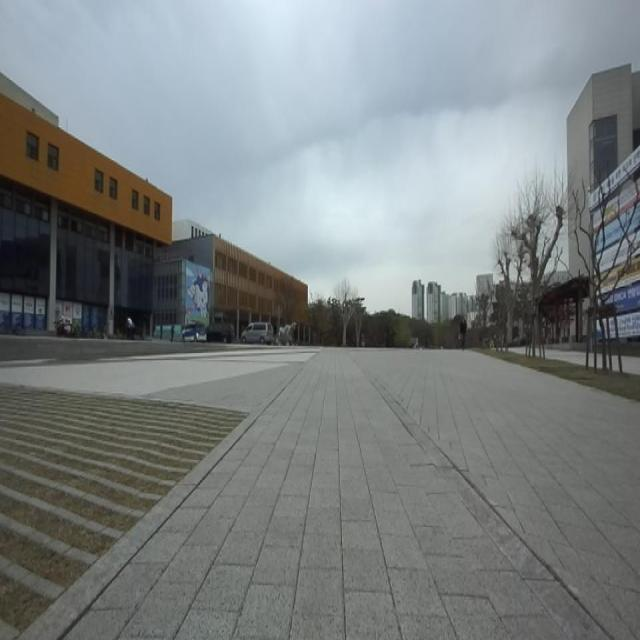sidewalk: (22, 352, 606, 639)
